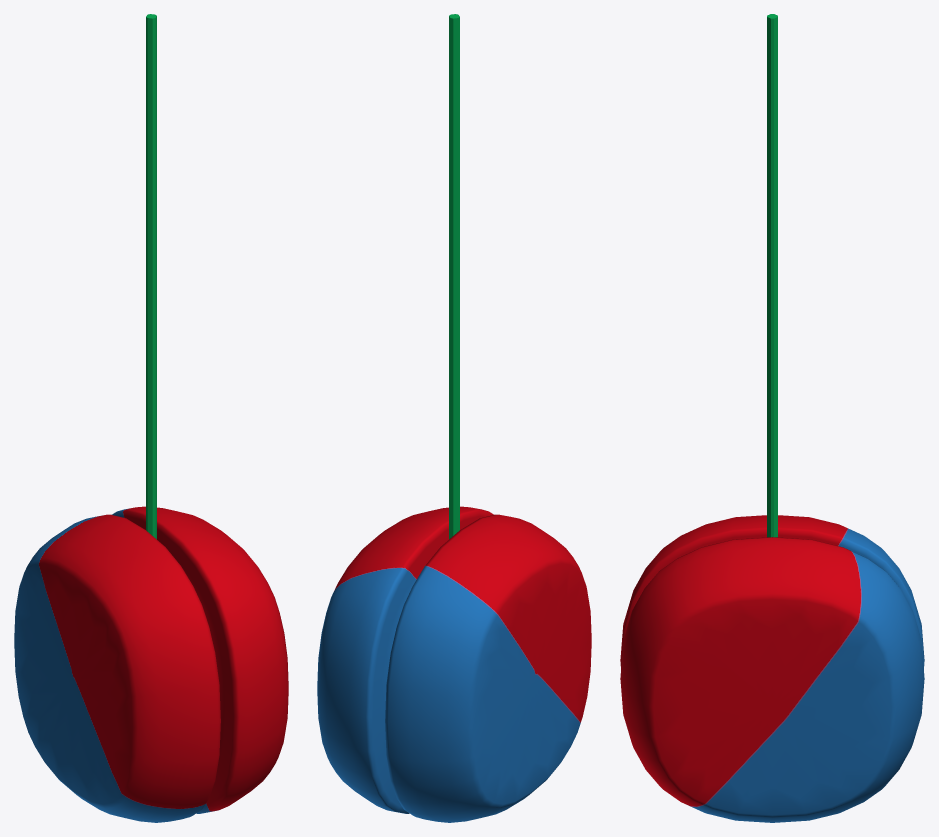
Rendered from O_Yoyo.fbx.
3 renders of one model, left to right at view 1: azimuth 30°, elevation 25°; view 2: azimuth 150°, elevation 25°; view 3: azimuth 270°, elevation 25°, orthographic.
Visible parts, largest first — view 1: polySurface279; view 2: polySurface279; view 3: polySurface279.
Part boxes in pixels (box(x1,y1,x2,y2)): polySurface279: box(14, 14, 288, 822); polySurface279: box(317, 14, 591, 822); polySurface279: box(620, 14, 924, 822).
Bounding box in the file's own units: 656 × 3080 × 1074.
